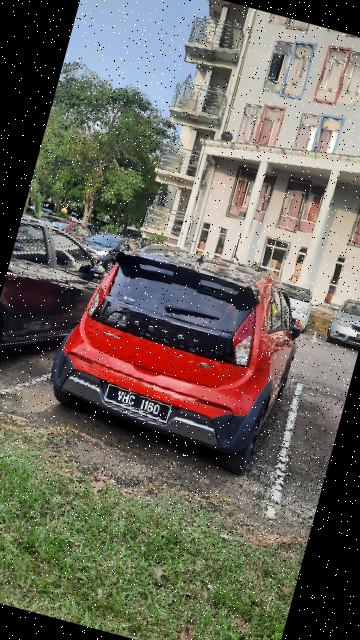License_Plate: (97, 378, 178, 429)
car: (39, 233, 315, 485), (1, 216, 126, 407), (262, 275, 322, 340), (313, 286, 360, 351)
